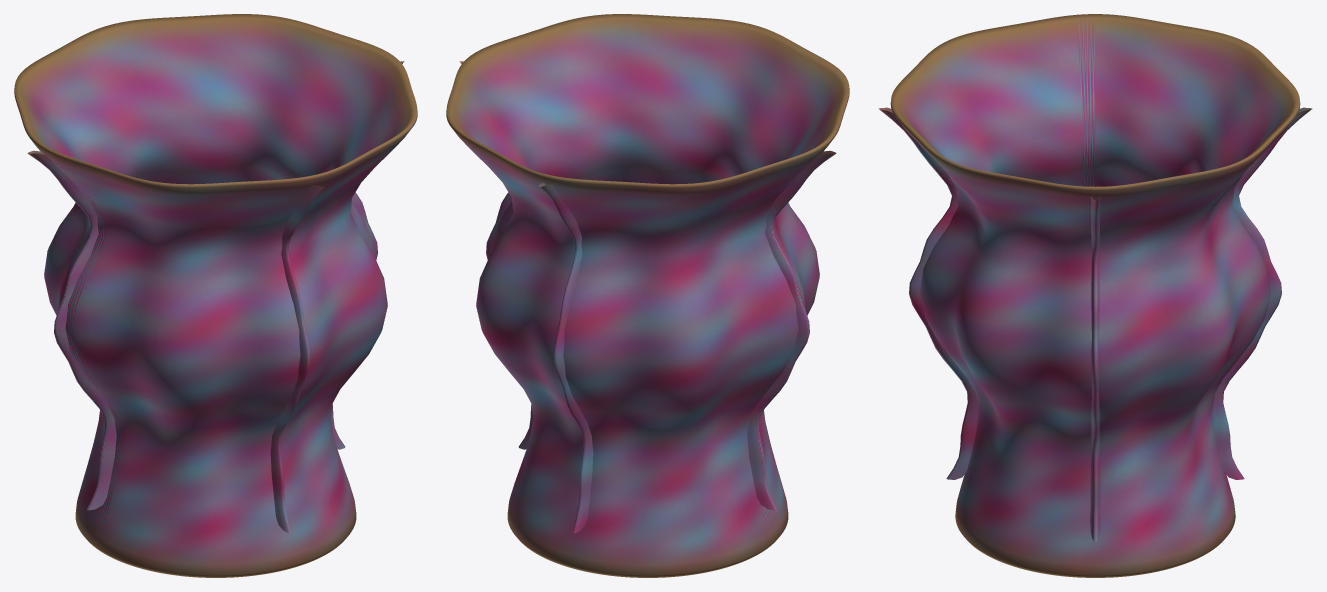
The model's file is SongJunYao_ChujiZun_Master.glb.
3 renders of one model, left to right at view 1: azimuth 30°, elevation 25°; view 2: azimuth 150°, elevation 25°; view 3: azimuth 270°, elevation 25°, orthographic.
Parts seen in each view (by area): view 1: SongJunYao_ChujiZun_Ultra; view 2: SongJunYao_ChujiZun_Ultra; view 3: SongJunYao_ChujiZun_Ultra.
Part boxes in pixels (bbox=[...]): SongJunYao_ChujiZun_Ultra: bbox=[14, 14, 417, 577]; SongJunYao_ChujiZun_Ultra: bbox=[446, 14, 849, 577]; SongJunYao_ChujiZun_Ultra: bbox=[878, 14, 1312, 577].
Size of the model in its own units: 0.2053 by 0.2189 by 0.2053.
1 material, 1 textured.
